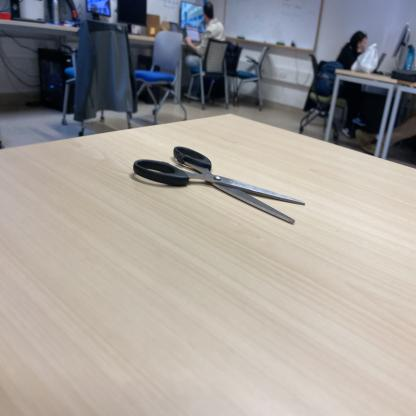scissors: (131, 142, 307, 228)
